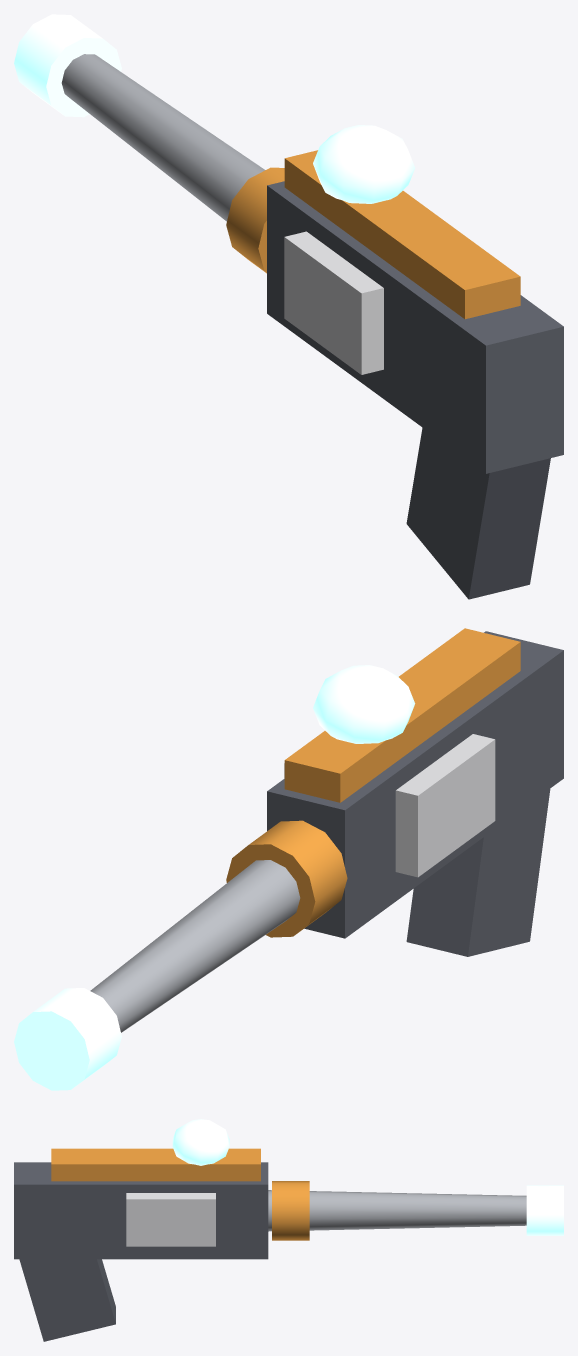
Rendered from multitool.glb.
The picture shows the model from 3 angles, top to bottom: view 1: azimuth 30°, elevation 25°; view 2: azimuth 150°, elevation 25°; view 3: azimuth 270°, elevation 25°; orthographic projection. The views are drawn at different scales.
Parts seen in each view (by area): view 1: MultitoolMesh; view 2: MultitoolMesh; view 3: MultitoolMesh.
Boxes of the visible parts, left/top/right/bottom form: MultitoolMesh: left=14, top=14, right=563, bottom=599; MultitoolMesh: left=14, top=628, right=563, bottom=1090; MultitoolMesh: left=14, top=1119, right=563, bottom=1341.
Size of the model in its own units: 0.12 by 0.3106 by 0.735.
